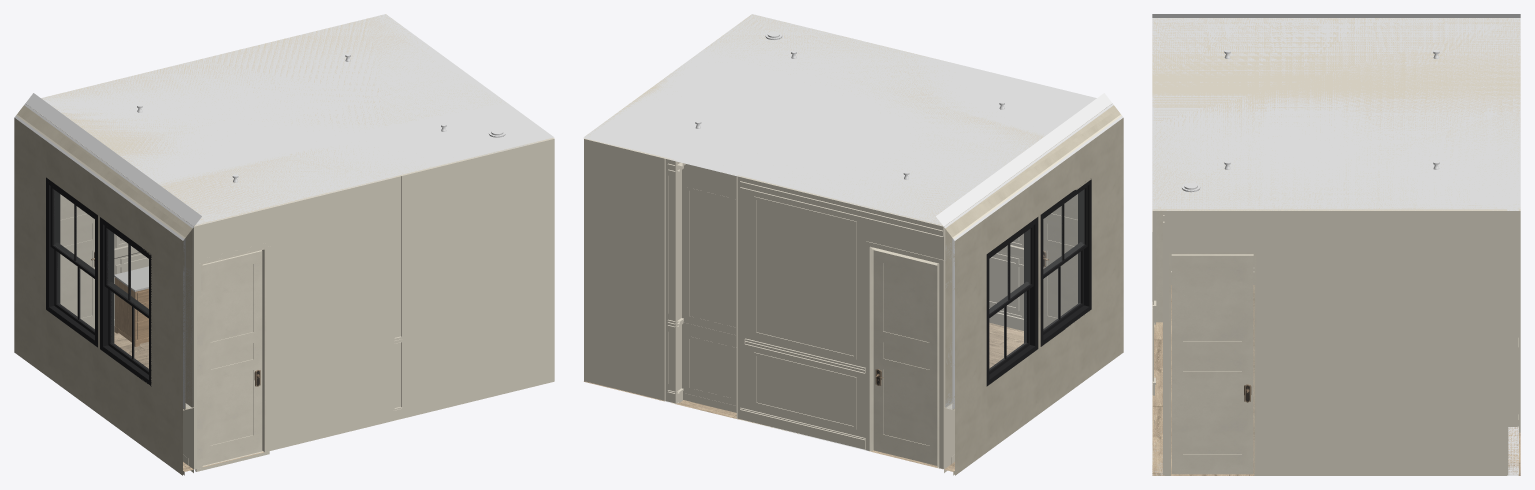
File: green-bedroom-08cf58c8d530.glb
3 renders of one model, left to right at view 1: azimuth 30°, elevation 25°; view 2: azimuth 150°, elevation 25°; view 3: azimuth 270°, elevation 25°, orthographic. The views are drawn at different scales.
Visible parts, largest first — view 1: green-bedroom-eb02897c2e79e2b1, green-bedroom-9d91b47435c6fb33, green-bedroom-e8793759323e04f0, green-bedroom-312b4ac1be39223d, green-bedroom-7406100458e293ce, green-bedroom-33ee0b466567e5f0, green-bedroom-eea30be35ce76d8a, green-bedroom-b27266f3159d5f34, green-bedroom-5e646f76b0244fe8, green-bedroom-39b94aca90fa4b53, green-bedroom-3a4d9d62ecd7be1c, green-bedroom-442e5a19ed849720 (+4 smaller); view 2: green-bedroom-9d91b47435c6fb33, green-bedroom-b6ab44e8ab2b63f4, green-bedroom-8d8280a2b3ef8b4c, green-bedroom-312b4ac1be39223d, green-bedroom-5e646f76b0244fe8, green-bedroom-689020e0fc226264, green-bedroom-33ee0b466567e5f0, green-bedroom-e8793759323e04f0, green-bedroom-eea30be35ce76d8a, green-bedroom-b27266f3159d5f34, green-bedroom-7406100458e293ce, green-bedroom-4fe5579be934d30a (+10 smaller); view 3: green-bedroom-64efeecf845bccca, green-bedroom-9d91b47435c6fb33, green-bedroom-e8793759323e04f0, green-bedroom-b50904fb6ee0544e, green-bedroom-2575515a05775d9e, green-bedroom-689020e0fc226264, green-bedroom-34287d1b870c745c, green-bedroom-eb02897c2e79e2b1, green-bedroom-442e5a19ed849720, green-bedroom-8d8280a2b3ef8b4c, green-bedroom-4fe5579be934d30a.
Boxes of the visible parts, box(x1,y1,x2,y2) form: green-bedroom-eb02897c2e79e2b1: box(188, 139, 554, 469); green-bedroom-9d91b47435c6fb33: box(25, 14, 554, 226); green-bedroom-e8793759323e04f0: box(27, 14, 537, 224); green-bedroom-312b4ac1be39223d: box(14, 116, 184, 409); green-bedroom-7406100458e293ce: box(202, 250, 262, 465); green-bedroom-33ee0b466567e5f0: box(14, 287, 193, 475); green-bedroom-eea30be35ce76d8a: box(46, 177, 97, 347); green-bedroom-b27266f3159d5f34: box(100, 217, 151, 386); green-bedroom-5e646f76b0244fe8: box(60, 194, 94, 328); green-bedroom-39b94aca90fa4b53: box(17, 105, 192, 409); green-bedroom-3a4d9d62ecd7be1c: box(24, 103, 193, 407); green-bedroom-442e5a19ed849720: box(201, 247, 266, 467); green-bedroom-9d91b47435c6fb33: box(583, 14, 1112, 226); green-bedroom-b6ab44e8ab2b63f4: box(736, 176, 949, 469); green-bedroom-8d8280a2b3ef8b4c: box(584, 138, 681, 403); green-bedroom-312b4ac1be39223d: box(953, 116, 1123, 409); green-bedroom-5e646f76b0244fe8: box(873, 250, 937, 465); green-bedroom-689020e0fc226264: box(676, 160, 737, 418); green-bedroom-33ee0b466567e5f0: box(944, 287, 1123, 475); green-bedroom-e8793759323e04f0: box(585, 14, 1110, 224); green-bedroom-eea30be35ce76d8a: box(986, 217, 1038, 386); green-bedroom-b27266f3159d5f34: box(1040, 179, 1091, 346); green-bedroom-7406100458e293ce: box(1043, 194, 1077, 328); green-bedroom-4fe5579be934d30a: box(664, 158, 676, 403); green-bedroom-64efeecf845bccca: box(1164, 209, 1508, 475); green-bedroom-9d91b47435c6fb33: box(1152, 18, 1520, 210); green-bedroom-e8793759323e04f0: box(1152, 14, 1520, 209); green-bedroom-b50904fb6ee0544e: box(1171, 254, 1253, 474); green-bedroom-2575515a05775d9e: box(1152, 285, 1520, 475); green-bedroom-689020e0fc226264: box(1508, 211, 1518, 426); green-bedroom-34287d1b870c745c: box(1169, 252, 1256, 475); green-bedroom-eb02897c2e79e2b1: box(1152, 209, 1164, 475); green-bedroom-442e5a19ed849720: box(1156, 211, 1162, 322); green-bedroom-8d8280a2b3ef8b4c: box(1507, 209, 1518, 475); green-bedroom-4fe5579be934d30a: box(1519, 211, 1520, 432).
Bounding box in the file's own units: 4.64 × 3.04 × 3.65.
Materials: 33 (8 with a texture image).
